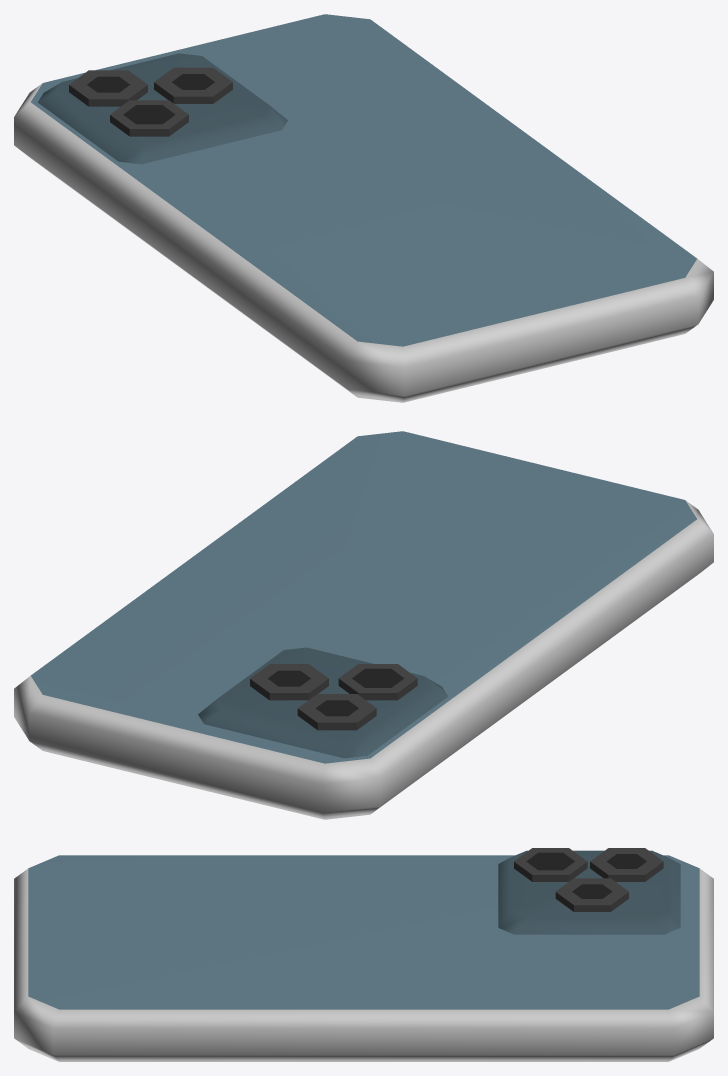
The model's file is prop_010.fbx.
3 renders of one model, top to bottom at view 1: azimuth 30°, elevation 25°; view 2: azimuth 150°, elevation 25°; view 3: azimuth 270°, elevation 25°, orthographic. The views are drawn at different scales.
Parts seen in each view (by area): view 1: prop_010; view 2: prop_010; view 3: prop_010.
Boxes of the visible parts, x1,y1,x2,y2 form: prop_010: (14,14,713,402); prop_010: (14,431,713,819); prop_010: (14,848,713,1061).
Size of the model in its own units: 19.91 by 35.35 by 3.97.
